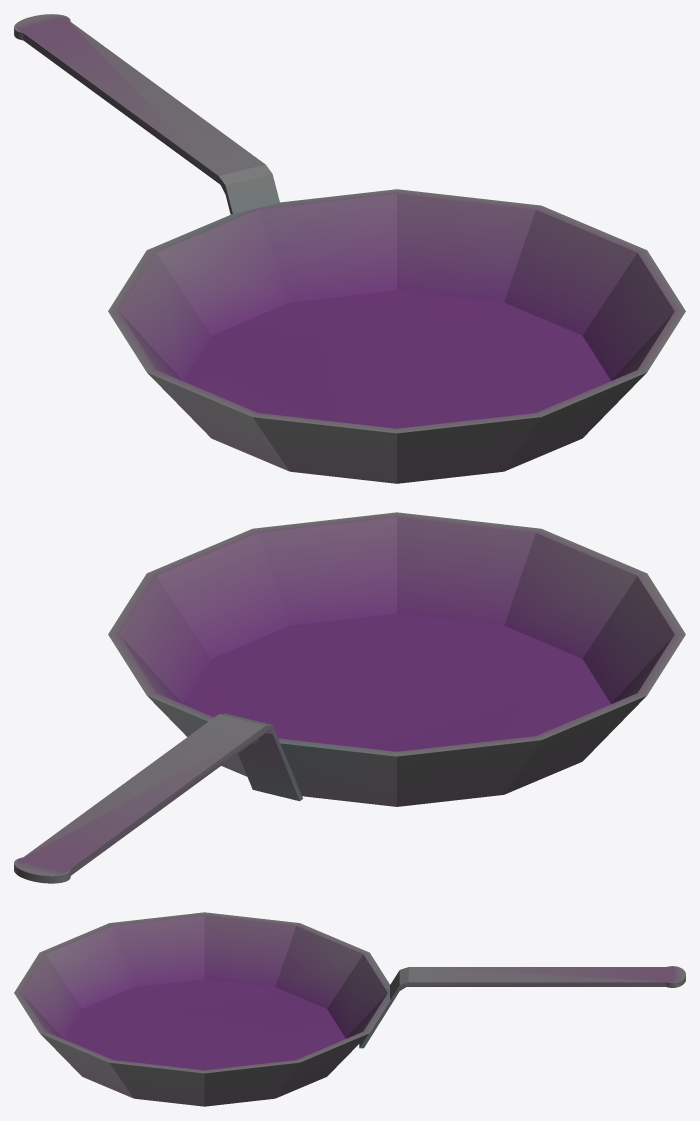
3 views of the same model, one above another, from view 1: azimuth 30°, elevation 25°; view 2: azimuth 150°, elevation 25°; view 3: azimuth 270°, elevation 25° (orthographic). The views are drawn at different scales.
Visible parts, largest first — view 1: bowl, bent_neck; view 2: bowl, bent_neck; view 3: bowl, bent_neck.
Boxes of the visible parts, x1,y1,x2,y2 form: bowl: (108, 189, 685, 483); bent_neck: (14, 14, 279, 214); bowl: (108, 512, 685, 806); bent_neck: (14, 713, 302, 883); bowl: (14, 912, 390, 1106); bent_neck: (359, 966, 685, 1048).
Size of the model in its own units: 0.17 by 0.0356 by 0.2996.
